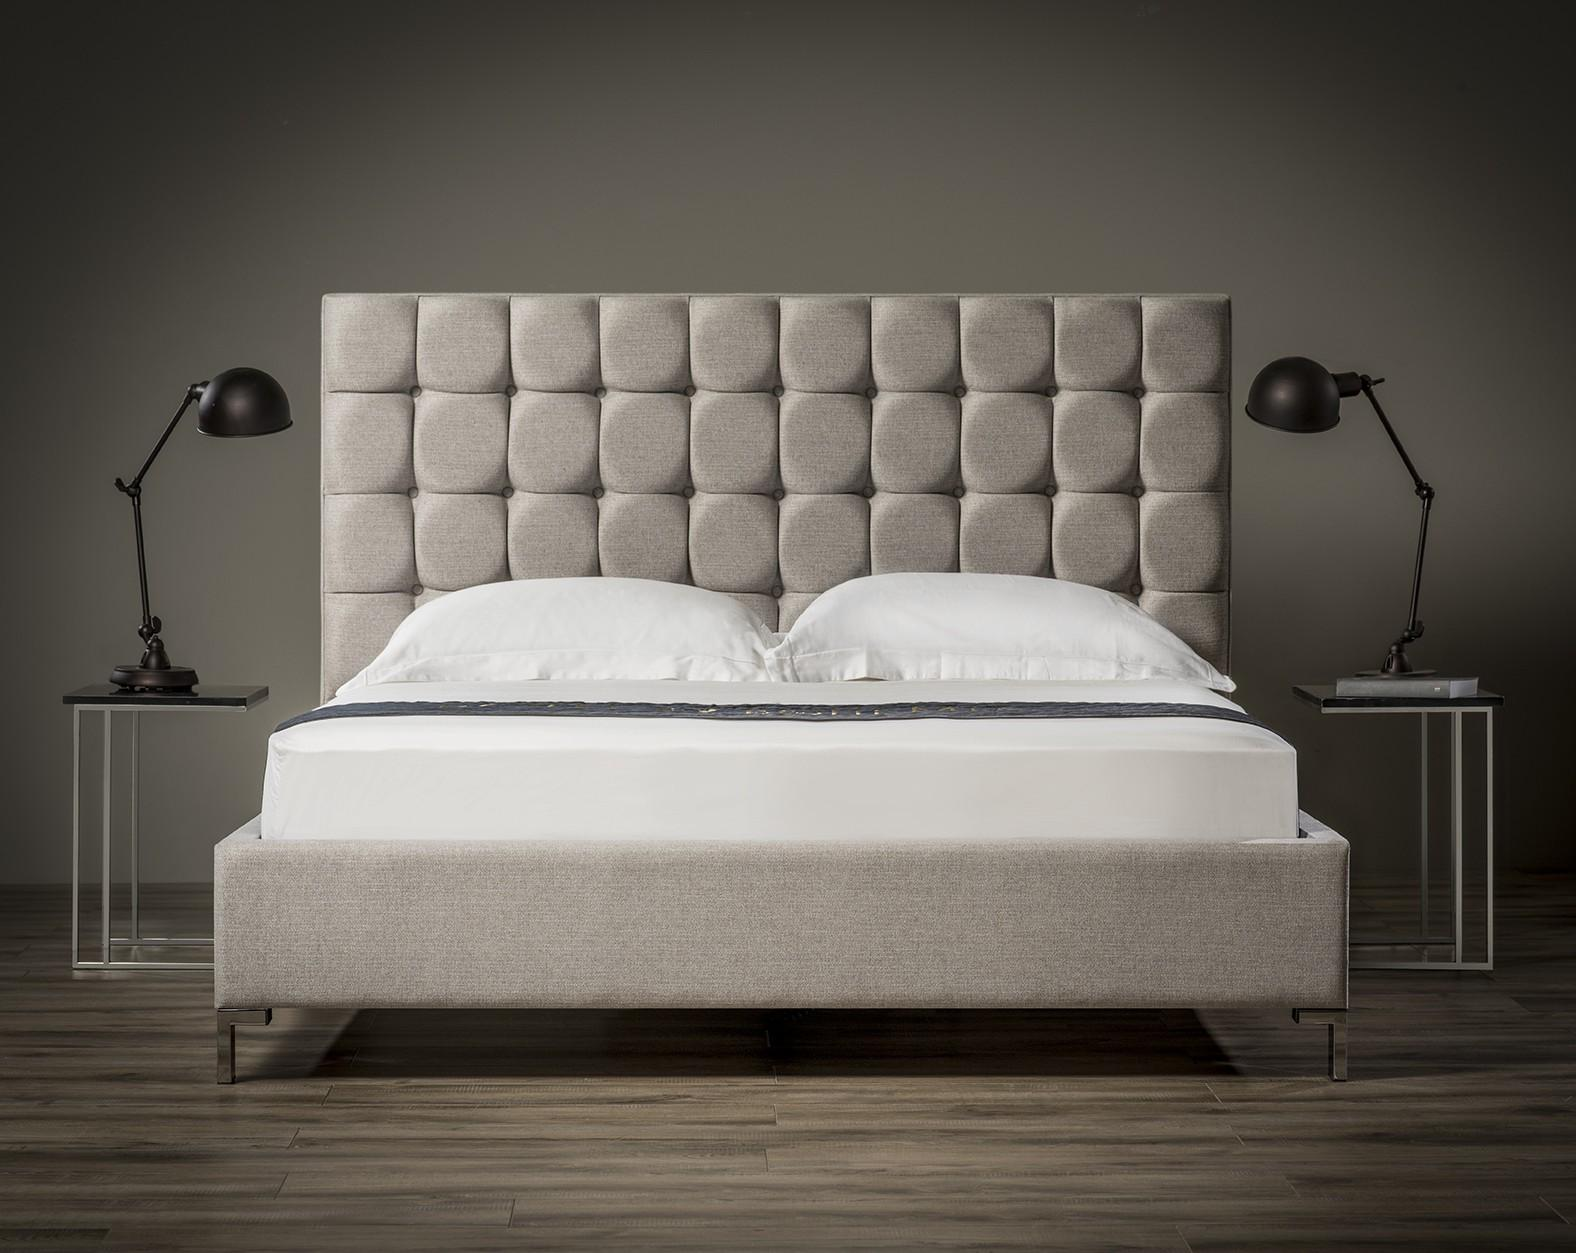bed: (37, 93, 1366, 1073)
